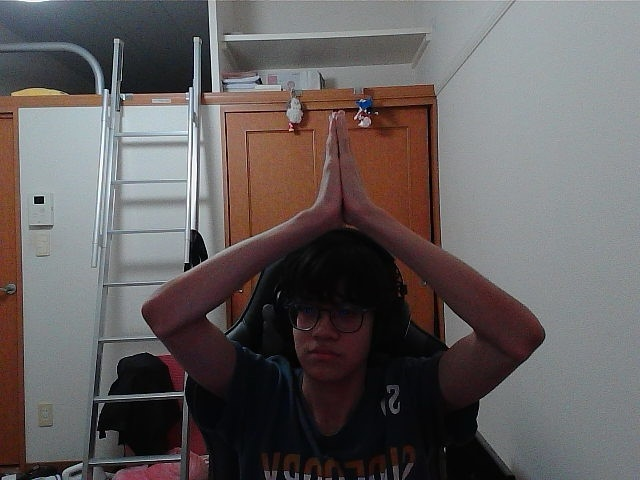pray: (334, 131, 348, 218)
